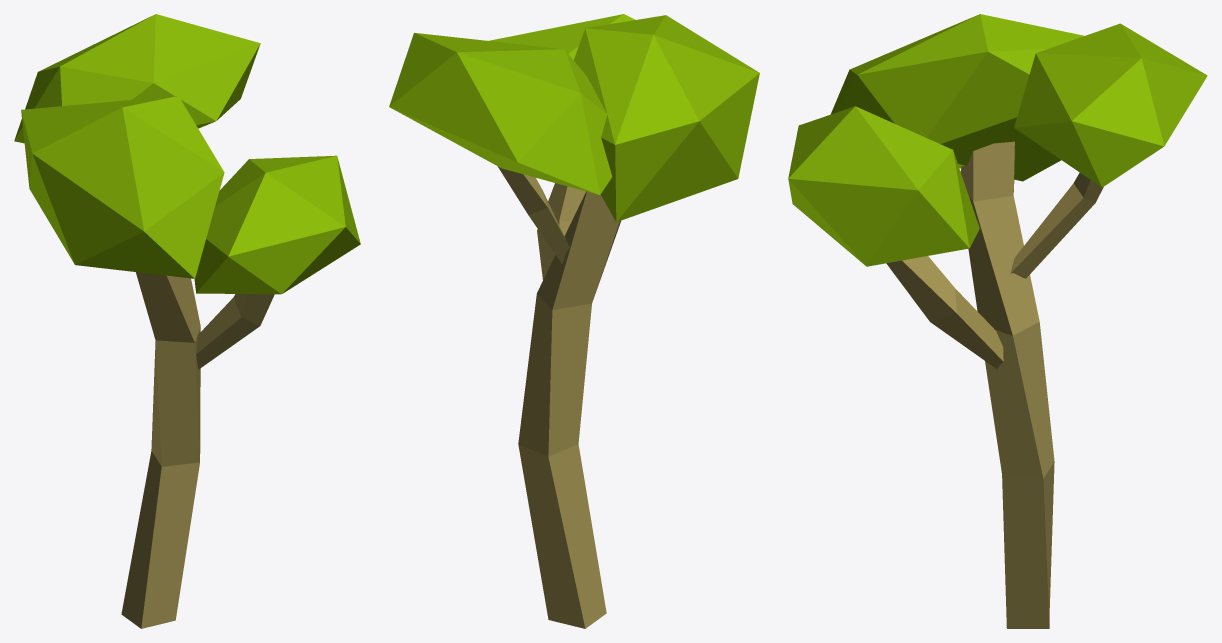
Rendered from Tree_Summer_6.fbx.
3 renders of one model, left to right at view 1: azimuth 30°, elevation 25°; view 2: azimuth 150°, elevation 25°; view 3: azimuth 270°, elevation 25°, orthographic. The views are drawn at different scales.
Parts seen in each view (by area): view 1: Leaves.002, Trunk, Leaves.001, Leaves, Trunk.002; view 2: Leaves.002, Trunk, Leaves, Trunk.001, Leaves.001, Trunk.002; view 3: Trunk, Leaves.001, Leaves.002, Leaves, Trunk.002, Trunk.001.
Boxes of the visible parts, x1,y1,x2,y2 form: Leaves.002: (21, 96, 224, 278); Trunk: (121, 272, 200, 628); Leaves.001: (194, 155, 360, 294); Leaves: (14, 14, 260, 143); Trunk.002: (196, 294, 274, 369); Leaves.002: (574, 15, 759, 221); Trunk: (518, 191, 620, 628); Leaves: (389, 32, 612, 195); Trunk.001: (497, 166, 569, 264); Leaves.001: (489, 14, 635, 59); Trunk.002: (537, 183, 585, 279); Trunk: (960, 141, 1054, 628); Leaves.001: (788, 106, 979, 266); Leaves.002: (830, 14, 1084, 181); Leaves: (1014, 23, 1207, 187); Trunk.002: (886, 256, 1003, 368); Trunk.001: (1010, 172, 1103, 278).
Size of the model in its own units: 137 by 286 by 183.
